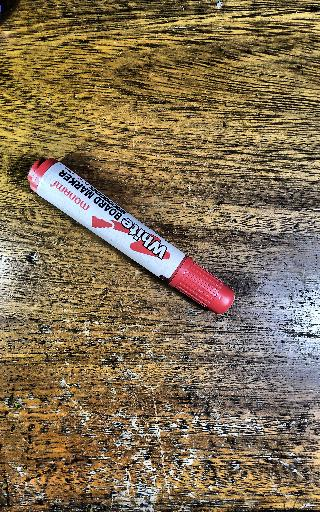marcador rojo: (28, 158, 234, 314)
